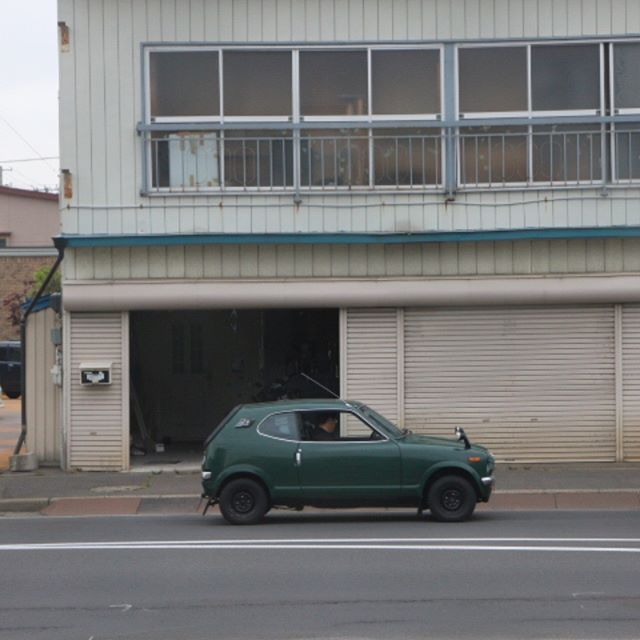building: (64, 1, 640, 471)
car: (202, 385, 497, 528)
sidewalk: (3, 464, 640, 518)
street: (18, 521, 640, 640)
